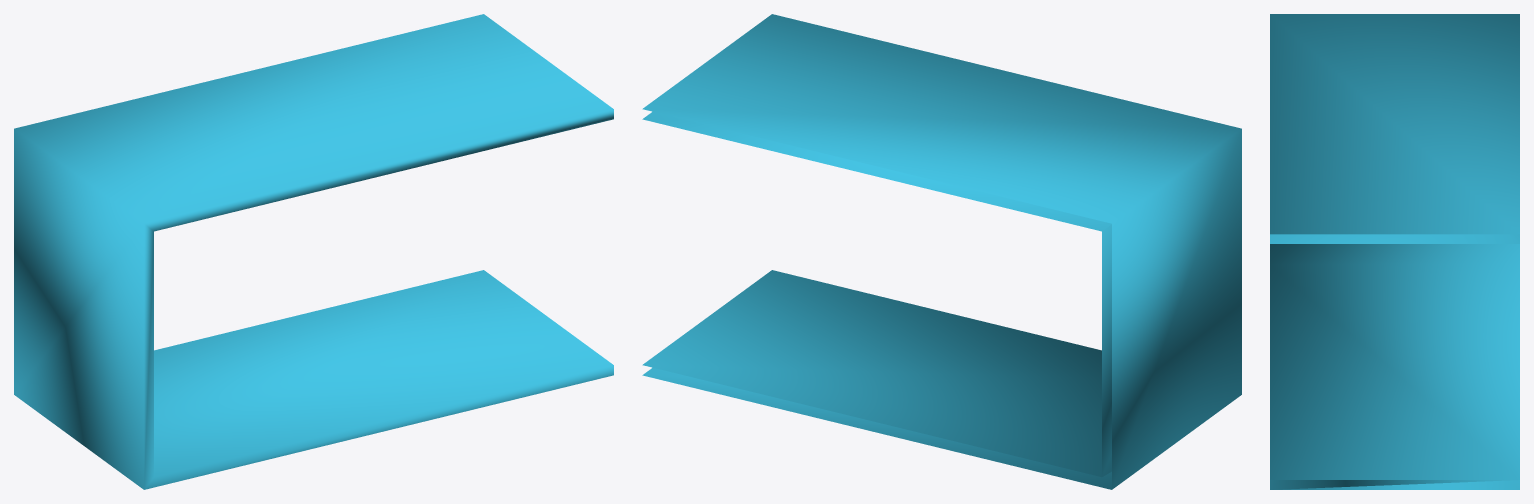
Rendered from glass1.fbx.
3 renders of one model, left to right at view 1: azimuth 30°, elevation 25°; view 2: azimuth 150°, elevation 25°; view 3: azimuth 270°, elevation 25°, orthographic. The views are drawn at different scales.
Visible parts, largest first — view 1: Plane_137; view 2: Plane_137; view 3: Plane_137.
Part boxes in pixels (x1=…): Plane_137: x1=14, y1=14, x2=613, y2=489; Plane_137: x1=642, y1=14, x2=1241, y2=489; Plane_137: x1=1270, y1=14, x2=1519, y2=489.
Size of the model in its own units: 9.6 by 5.2 by 4.6.
1 material, 1 textured.
